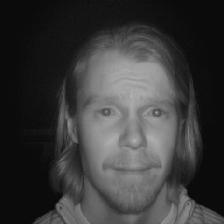normal: (59, 28, 207, 212)
